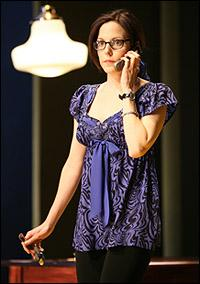person: (20, 10, 179, 283)
